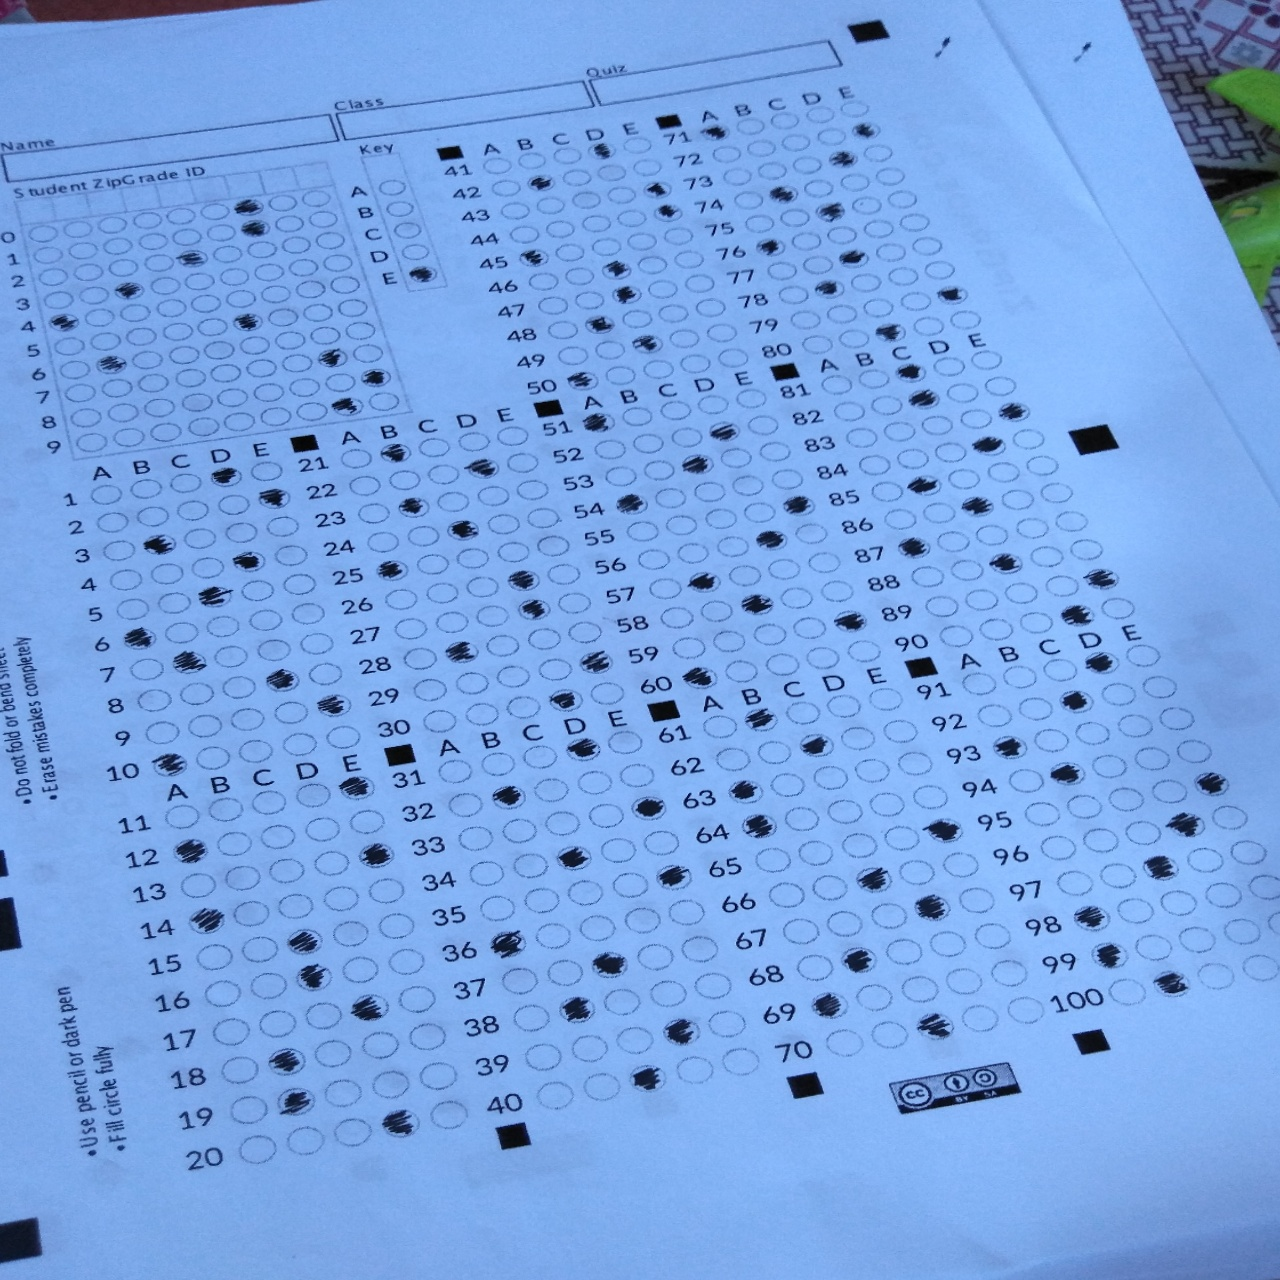not-c: (375, 911, 418, 941), (570, 1033, 612, 1063), (366, 877, 408, 907), (236, 1135, 278, 1165), (200, 978, 243, 1008), (267, 856, 309, 886), (300, 815, 342, 845), (247, 788, 290, 818), (704, 1009, 748, 1039), (720, 1047, 763, 1076), (358, 1030, 401, 1060), (600, 986, 641, 1016), (675, 1055, 716, 1085), (418, 1062, 459, 1092), (384, 947, 425, 978), (331, 917, 372, 947), (229, 1095, 270, 1125), (248, 971, 290, 1001), (230, 899, 271, 930), (311, 850, 352, 880), (258, 822, 299, 852), (222, 864, 263, 894), (177, 870, 218, 900), (205, 795, 246, 825), (293, 779, 334, 810), (635, 942, 678, 972), (693, 971, 735, 1000), (646, 978, 688, 1007), (522, 1042, 564, 1071), (396, 983, 438, 1013), (302, 1001, 345, 1030), (313, 1039, 355, 1068), (211, 1017, 253, 1047), (159, 803, 202, 832), (1194, 961, 1237, 990), (823, 1029, 865, 1058), (989, 959, 1032, 988), (794, 953, 836, 982), (869, 903, 911, 932), (898, 975, 941, 1003), (881, 938, 925, 966), (679, 935, 720, 965), (614, 1026, 655, 1055), (580, 1071, 621, 1101), (533, 1081, 574, 1110), (428, 1099, 469, 1129), (406, 1022, 447, 1051), (321, 883, 362, 912), (340, 954, 381, 983), (372, 1070, 413, 1099), (218, 1055, 259, 1084), (257, 1010, 298, 1040), (285, 1126, 326, 1156), (195, 942, 236, 972), (241, 935, 282, 965), (275, 891, 316, 920), (212, 829, 253, 858), (1221, 915, 1262, 945), (1176, 924, 1217, 953), (1132, 932, 1173, 961), (1006, 995, 1047, 1024), (942, 966, 983, 995), (779, 915, 821, 945), (824, 908, 865, 938), (956, 886, 998, 915), (942, 850, 983, 879), (509, 1005, 551, 1033), (321, 1078, 363, 1107), (347, 809, 389, 837), (959, 1005, 1001, 1033), (927, 928, 969, 956), (1240, 953, 1280, 982), (869, 1021, 908, 1050), (332, 1117, 373, 1145), (855, 983, 896, 1012), (971, 922, 1012, 951), (896, 857, 937, 885), (1039, 835, 1080, 862), (1105, 978, 1146, 1005), (567, 878, 605, 907), (606, 728, 644, 757), (520, 744, 559, 772), (576, 769, 614, 797), (617, 761, 655, 789), (624, 906, 662, 934), (577, 913, 615, 941), (1185, 847, 1225, 874), (1159, 888, 1199, 915), (1203, 881, 1242, 908), (810, 874, 850, 901), (866, 686, 906, 713), (668, 899, 704, 928), (1148, 779, 1189, 805), (1080, 828, 1121, 853), (881, 825, 922, 851), (479, 894, 517, 922), (523, 886, 560, 914), (479, 750, 517, 778), (611, 871, 648, 899), (600, 837, 638, 865), (642, 829, 680, 857), (501, 817, 539, 844), (543, 810, 581, 837), (535, 922, 573, 949), (501, 967, 539, 994), (1023, 801, 1062, 828), (1098, 862, 1137, 888), (768, 771, 806, 798), (881, 719, 920, 745), (1107, 787, 1146, 812), (1122, 819, 1162, 845), (1210, 804, 1250, 830), (1054, 870, 1094, 896), (1115, 898, 1155, 924), (767, 881, 806, 907), (754, 847, 794, 873), (824, 799, 864, 825), (896, 751, 935, 777), (755, 740, 795, 765), (713, 745, 753, 771), (783, 700, 823, 726), (588, 802, 625, 830), (546, 958, 583, 986), (978, 617, 1015, 644), (1017, 610, 1055, 636), (844, 638, 881, 665), (511, 852, 549, 879), (1132, 745, 1171, 771), (1007, 768, 1046, 794), (1089, 753, 1128, 778), (1065, 795, 1104, 821), (1228, 839, 1267, 865), (840, 833, 879, 859), (910, 784, 948, 810), (867, 792, 906, 818), (783, 806, 822, 832), (810, 764, 849, 790), (825, 693, 864, 719), (1114, 713, 1153, 737), (532, 776, 568, 803), (938, 622, 975, 648), (722, 658, 760, 683), (659, 606, 696, 632), (715, 535, 753, 560), (454, 670, 491, 696), (545, 561, 583, 587), (237, 740, 274, 765), (116, 595, 154, 621), (86, 482, 123, 508), (189, 556, 226, 581), (1157, 704, 1194, 730), (797, 840, 835, 866), (853, 757, 891, 783), (838, 726, 876, 751), (701, 714, 738, 740), (1041, 658, 1080, 682), (960, 670, 999, 695), (1073, 721, 1111, 745), (1175, 738, 1213, 763), (751, 621, 787, 648), (804, 646, 840, 672), (791, 615, 828, 641), (670, 635, 707, 661), (726, 563, 762, 588), (647, 577, 683, 602), (768, 467, 804, 492), (734, 386, 770, 411), (338, 445, 374, 471), (436, 489, 472, 515), (195, 745, 231, 771), (298, 631, 334, 656), (256, 638, 292, 663), (213, 644, 250, 669), (156, 591, 192, 617), (697, 598, 735, 622), (794, 520, 831, 545), (674, 542, 712, 566), (624, 520, 661, 545), (640, 458, 678, 483), (667, 425, 704, 450), (384, 468, 422, 492), (504, 451, 542, 476), (535, 533, 572, 558), (495, 539, 532, 564), (433, 610, 470, 634), (463, 701, 501, 726), (495, 665, 532, 689), (537, 658, 574, 682), (422, 709, 459, 734), (325, 726, 362, 750), (272, 701, 309, 726), (143, 721, 181, 745), (109, 567, 147, 592), (94, 510, 131, 535), (127, 476, 164, 501), (181, 527, 218, 552), (248, 459, 286, 484), (223, 520, 260, 545), (264, 513, 301, 538), (447, 791, 484, 816), (1001, 663, 1039, 688), (765, 652, 801, 678), (712, 628, 747, 654), (719, 447, 754, 472), (744, 414, 779, 440), (186, 713, 222, 738), (1016, 697, 1055, 721), (819, 579, 856, 604), (806, 551, 843, 576), (765, 557, 802, 581), (730, 474, 767, 498), (742, 501, 778, 525), (653, 485, 689, 510), (601, 464, 638, 489), (695, 392, 731, 416), (495, 423, 531, 448), (416, 435, 452, 459), (424, 462, 461, 486), (515, 479, 551, 504), (476, 484, 512, 509), (406, 524, 442, 549), (414, 551, 450, 576), (474, 605, 510, 629), (464, 574, 501, 599), (556, 591, 592, 615), (590, 681, 626, 706), (403, 646, 440, 670), (392, 617, 428, 641), (280, 733, 316, 757), (222, 676, 258, 701), (246, 608, 282, 633), (290, 601, 326, 626), (282, 571, 319, 595), (148, 561, 184, 586), (213, 491, 250, 516), (273, 544, 309, 568), (436, 758, 472, 783), (469, 862, 505, 886), (663, 512, 701, 536), (592, 438, 629, 462), (756, 440, 794, 463), (619, 403, 656, 427), (455, 430, 492, 454), (504, 696, 542, 720), (101, 538, 138, 561), (134, 505, 171, 529), (173, 499, 211, 523), (166, 470, 204, 493), (975, 703, 1013, 727), (946, 467, 981, 491), (844, 425, 879, 450), (920, 414, 955, 438), (703, 508, 738, 532), (629, 430, 665, 455), (356, 501, 392, 525), (365, 530, 400, 554), (485, 634, 520, 659), (411, 678, 447, 702), (229, 707, 264, 731), (179, 682, 215, 707), (131, 658, 166, 682), (458, 826, 493, 851), (1098, 682, 1137, 704), (1051, 509, 1088, 532), (1068, 538, 1104, 561), (1028, 545, 1064, 568), (908, 564, 945, 587), (1099, 595, 1136, 619), (778, 587, 815, 611), (634, 549, 670, 572), (692, 481, 728, 504), (658, 399, 694, 422), (347, 474, 383, 497), (525, 508, 561, 531), (454, 547, 490, 571), (384, 587, 421, 611), (423, 581, 459, 605), (567, 621, 604, 645), (137, 688, 173, 712), (164, 620, 200, 644), (205, 615, 241, 639), (240, 579, 277, 602), (1032, 729, 1068, 753), (881, 420, 915, 444), (819, 373, 853, 397), (869, 394, 903, 418), (1141, 675, 1178, 697), (1014, 515, 1049, 538), (935, 529, 971, 552), (921, 501, 956, 524), (986, 461, 1021, 484), (933, 442, 968, 465), (896, 447, 931, 470), (945, 382, 980, 406), (831, 399, 866, 422), (964, 587, 999, 611), (485, 513, 520, 537), (526, 627, 561, 651), (308, 663, 343, 687), (308, 324, 342, 347), (847, 271, 881, 294), (971, 348, 1005, 372), (856, 452, 890, 476), (960, 408, 994, 431), (932, 354, 966, 377), (857, 368, 891, 392), (949, 559, 983, 583), (1005, 583, 1039, 606), (1046, 574, 1080, 598), (1124, 644, 1158, 667), (273, 331, 308, 353), (619, 308, 654, 331), (563, 266, 598, 288), (515, 150, 550, 172), (948, 308, 983, 331), (912, 315, 947, 338), (799, 332, 835, 354), (983, 375, 1019, 397), (1039, 481, 1074, 503), (881, 508, 917, 530), (1000, 488, 1035, 510), (924, 594, 959, 617), (554, 241, 590, 264), (1248, 874, 1280, 899), (252, 381, 286, 403), (280, 353, 314, 375), (301, 301, 335, 324), (656, 302, 690, 325), (543, 219, 577, 241), (606, 184, 640, 206), (568, 189, 602, 211), (1012, 428, 1046, 450), (258, 284, 293, 305), (224, 288, 259, 309), (532, 195, 567, 216), (789, 309, 824, 331), (885, 266, 920, 287), (837, 327, 872, 348), (975, 525, 1010, 546), (869, 481, 904, 502), (267, 307, 300, 329), (287, 256, 320, 278), (190, 293, 223, 315), (120, 301, 152, 324), (79, 284, 111, 306), (124, 326, 157, 348), (59, 359, 91, 381), (188, 416, 220, 438), (652, 202, 685, 224), (625, 230, 658, 252), (662, 225, 695, 247), (590, 236, 622, 258), (682, 273, 715, 295), (694, 297, 727, 319), (595, 162, 628, 184), (631, 157, 663, 179), (287, 377, 321, 399), (200, 339, 234, 360), (209, 362, 243, 383), (173, 367, 207, 388), (136, 372, 170, 393), (215, 387, 248, 408), (222, 411, 256, 433), (113, 427, 147, 448), (399, 241, 433, 263), (716, 348, 750, 369), (572, 290, 606, 311), (646, 278, 680, 299), (825, 225, 859, 246), (765, 261, 799, 282), (825, 304, 859, 325), (910, 236, 944, 257), (1024, 455, 1058, 476), (585, 139, 619, 161), (579, 215, 614, 234), (789, 231, 824, 251), (313, 229, 346, 250), (336, 297, 369, 318), (260, 406, 293, 427), (219, 266, 252, 287), (183, 271, 216, 292), (148, 275, 181, 297), (155, 297, 188, 318), (90, 331, 123, 352), (196, 316, 229, 338), (53, 335, 86, 356), (238, 335, 271, 356), (101, 377, 134, 399), (63, 383, 96, 404), (69, 407, 102, 428), (107, 402, 139, 423), (149, 422, 182, 443), (527, 270, 560, 291), (557, 345, 590, 366), (679, 353, 712, 374), (667, 328, 700, 349), (615, 207, 648, 229), (560, 168, 593, 189), (874, 241, 907, 263), (526, 173, 559, 195), (105, 258, 139, 278), (324, 372, 358, 392), (253, 263, 287, 282), (159, 322, 193, 342), (481, 156, 515, 176), (602, 365, 636, 384), (704, 324, 738, 343), (672, 250, 706, 270), (898, 213, 932, 233), (862, 219, 896, 239), (922, 259, 956, 279), (642, 181, 676, 200), (38, 267, 70, 287), (72, 263, 104, 282), (142, 253, 175, 273), (279, 236, 312, 256), (272, 215, 305, 234), (300, 189, 333, 209), (321, 253, 354, 273), (352, 343, 384, 363), (367, 392, 400, 411), (293, 279, 326, 299), (43, 290, 76, 309), (83, 307, 116, 327), (130, 349, 163, 369), (166, 345, 199, 365), (245, 358, 278, 377), (142, 397, 175, 417), (181, 392, 213, 411), (75, 433, 108, 452), (392, 220, 424, 240), (498, 202, 531, 222), (508, 225, 540, 245), (593, 340, 626, 360), (635, 256, 668, 275), (778, 284, 811, 304), (862, 297, 894, 316), (899, 291, 932, 311), (552, 145, 583, 166), (735, 116, 765, 137), (838, 98, 869, 120), (817, 125, 847, 147), (756, 159, 787, 181), (794, 154, 824, 175), (851, 195, 881, 216), (886, 189, 917, 210), (801, 256, 835, 274), (212, 244, 244, 264), (266, 193, 298, 213), (376, 177, 408, 197), (537, 295, 568, 315), (779, 132, 811, 152), (862, 143, 893, 163), (874, 166, 906, 186), (840, 172, 872, 192), (731, 190, 763, 210), (27, 224, 60, 243), (95, 216, 128, 234), (132, 211, 165, 230), (198, 203, 231, 222), (205, 223, 238, 241), (245, 240, 278, 259), (343, 321, 376, 340), (295, 402, 328, 421), (489, 178, 522, 197), (546, 321, 579, 340), (641, 360, 674, 379), (769, 110, 799, 130), (804, 105, 835, 125), (722, 168, 753, 188), (744, 213, 775, 233), (779, 209, 810, 229), (137, 232, 171, 250), (172, 227, 204, 246), (68, 241, 100, 260), (308, 210, 340, 229), (329, 275, 361, 294), (384, 200, 416, 219), (712, 145, 743, 164), (802, 179, 833, 198), (60, 222, 93, 239), (745, 139, 776, 158), (32, 246, 66, 263), (165, 207, 197, 225), (102, 238, 134, 256), (620, 136, 652, 154), (1267, 910, 1280, 935)
taken-c: (266, 1046, 308, 1078), (379, 1107, 421, 1139), (627, 1062, 669, 1095), (486, 930, 530, 961), (1190, 768, 1234, 798), (660, 1017, 702, 1049), (558, 994, 600, 1026), (588, 949, 631, 981), (275, 1084, 316, 1116), (838, 944, 880, 974), (545, 687, 588, 716), (911, 893, 954, 922), (806, 990, 850, 1020), (350, 992, 390, 1023), (553, 843, 595, 872), (853, 866, 896, 896), (913, 1013, 955, 1042), (1150, 968, 1192, 998), (1089, 941, 1131, 971), (1070, 904, 1112, 933), (1139, 852, 1182, 881), (294, 962, 333, 994), (654, 863, 695, 892), (629, 795, 670, 824), (488, 783, 529, 812), (922, 816, 964, 845), (1167, 811, 1208, 840), (561, 736, 604, 764), (441, 639, 483, 667), (577, 648, 618, 676), (358, 842, 397, 870), (188, 906, 227, 934), (285, 928, 325, 956), (726, 778, 765, 806), (738, 811, 778, 839), (1047, 760, 1085, 788), (990, 734, 1029, 762), (799, 731, 837, 760), (1084, 648, 1122, 676), (170, 837, 209, 864), (1056, 687, 1095, 714), (892, 535, 932, 560), (955, 495, 995, 520), (904, 474, 944, 499), (971, 434, 1010, 459), (505, 568, 543, 595), (442, 519, 481, 545), (680, 665, 719, 690), (987, 551, 1026, 577), (994, 400, 1033, 425), (1058, 602, 1098, 627), (374, 557, 411, 583), (464, 456, 502, 482), (742, 707, 779, 733), (1083, 566, 1122, 591), (516, 597, 552, 622), (396, 495, 433, 520), (380, 441, 416, 467), (686, 570, 722, 595), (230, 550, 267, 574), (579, 410, 617, 435), (706, 418, 743, 443), (779, 493, 817, 518), (754, 527, 791, 552), (907, 387, 945, 411), (892, 362, 931, 386), (122, 626, 158, 651), (263, 669, 299, 694), (151, 753, 188, 777), (340, 775, 376, 799), (565, 369, 601, 394), (628, 333, 665, 358), (580, 313, 617, 338), (679, 452, 715, 477), (832, 610, 869, 634), (142, 533, 179, 557), (197, 585, 234, 608), (933, 282, 971, 306), (172, 651, 207, 675), (315, 694, 350, 719), (613, 492, 649, 516), (738, 592, 775, 615), (811, 278, 847, 301), (825, 148, 862, 171), (751, 236, 787, 259), (872, 321, 908, 343), (764, 184, 801, 206), (608, 284, 642, 307), (257, 486, 292, 509), (515, 246, 550, 268), (812, 200, 847, 223), (849, 120, 884, 142), (358, 366, 392, 388), (600, 260, 634, 282), (515, 246, 549, 268), (697, 121, 731, 143), (835, 248, 870, 270), (407, 263, 440, 285), (331, 396, 365, 417), (240, 217, 272, 239), (314, 348, 349, 368), (207, 467, 243, 486), (113, 280, 145, 301), (176, 248, 207, 270), (232, 311, 264, 332), (95, 354, 127, 375), (232, 197, 264, 217), (50, 311, 80, 332)
